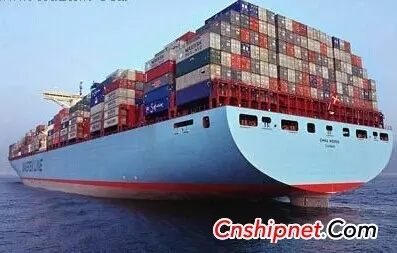Cargoship: (3, 1, 397, 190)
